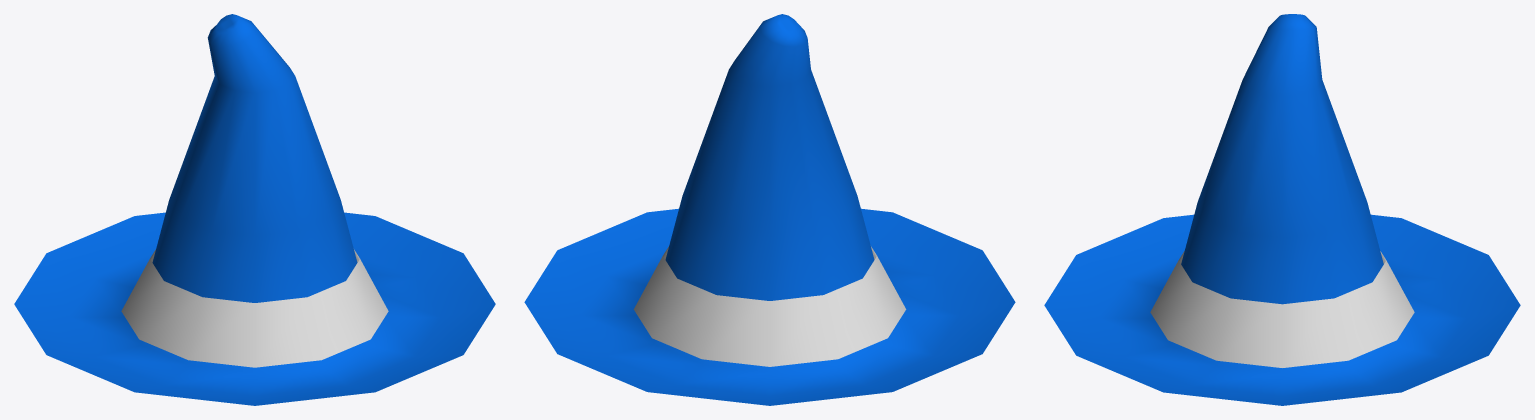
Rendered from asset.glb.
The picture shows the model from 3 angles, left to right: view 1: azimuth 30°, elevation 25°; view 2: azimuth 150°, elevation 25°; view 3: azimuth 270°, elevation 25°; orthographic projection. The views are drawn at different scales.
Parts seen in each view (by area): view 1: Circle; view 2: Circle; view 3: Circle.
Part boxes in pixels (x1,y1,x2,y2): Circle: (14, 14, 495, 405); Circle: (524, 14, 1015, 405); Circle: (1044, 14, 1520, 405).
Size of the model in its own units: 3.67 by 2.53 by 3.67.
